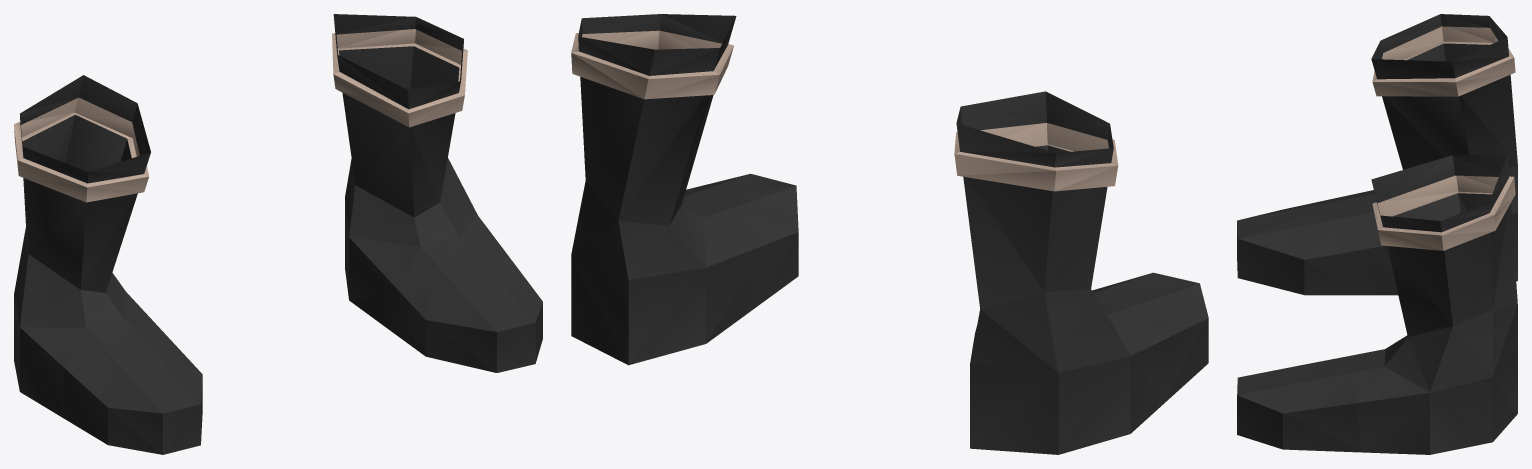
Rendered from RareBlacksmithBoots.dae.
The picture shows the model from 3 angles, left to right: view 1: azimuth 30°, elevation 25°; view 2: azimuth 150°, elevation 25°; view 3: azimuth 270°, elevation 25°; orthographic projection. The views are drawn at different scales.
Parts seen in each view (by area): view 1: Boots; view 2: Boots; view 3: Boots.
Boxes of the visible parts, x1,y1,x2,y2 form: Boots: (14,14,542,454); Boots: (571,14,1208,454); Boots: (1237,14,1517,454).
Bounding box in the file's own units: 2.62 × 1.45 × 1.43.
